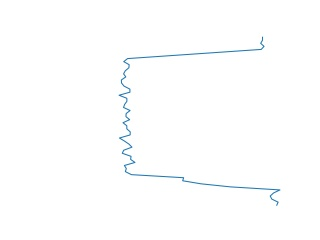distributaryChannelFill: (116, 36, 286, 209)
